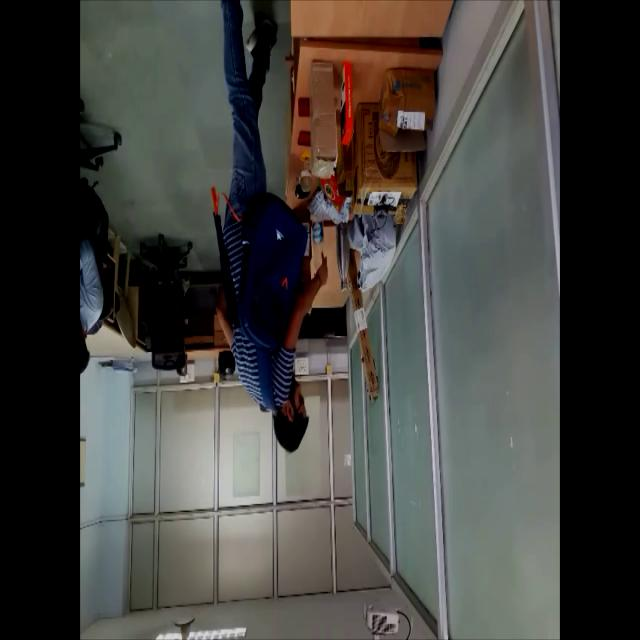normal: (207, 0, 330, 463)
